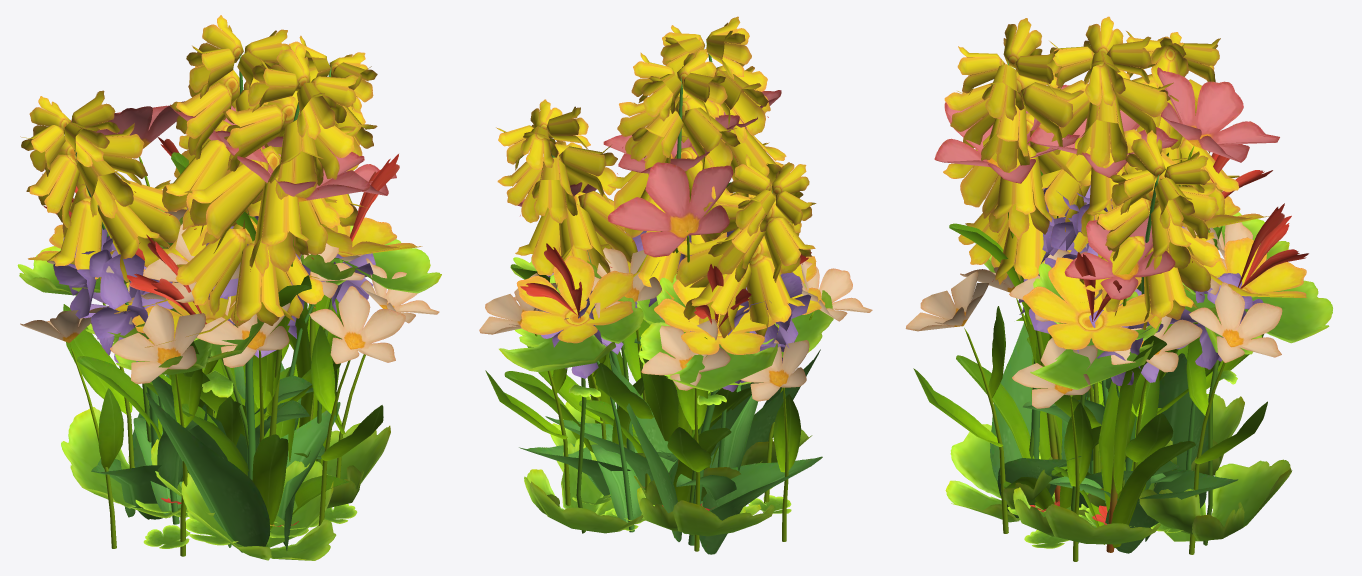
The model's file is flower.glb.
The picture shows the model from 3 angles, left to right: view 1: azimuth 30°, elevation 25°; view 2: azimuth 150°, elevation 25°; view 3: azimuth 270°, elevation 25°; orthographic projection. The views are drawn at different scales.
Visible parts, largest first — view 1: Flower_4_Group, Flower_1_Group, Flower_7_Group, Flower_3_Group, Flower_4_Single, Flower_2_Group, Flower_3_Single, Flower_1_Single, Flower_6_2, Flower_6, Flower_7_Single, Flower_2_Single; view 2: Flower_4_Group, Flower_7_Group, Flower_1_Group, Flower_4_Single, Flower_3_Group, Flower_2_Group, Flower_3_Single, Flower_7_Single, Flower_6; view 3: Flower_4_Group, Flower_7_Group, Flower_3_Group, Flower_1_Group, Flower_4_Single, Flower_2_Group, Flower_3_Single, Flower_2_Single, Flower_6_2.
Boxes of the visible parts, x1=… form: Flower_4_Group: x1=20, y1=35, x2=377, y2=552; Flower_1_Group: x1=20, y1=209, x2=439, y2=556; Flower_7_Group: x1=17, y1=137, x2=441, y2=560; Flower_3_Group: x1=71, y1=101, x2=396, y2=528; Flower_4_Single: x1=151, y1=15, x2=301, y2=464; Flower_2_Group: x1=53, y1=228, x2=375, y2=524; Flower_3_Single: x1=143, y1=104, x2=317, y2=457; Flower_1_Single: x1=143, y1=223, x2=240, y2=413; Flower_6_2: x1=135, y1=474, x2=357, y2=545; Flower_6: x1=143, y1=508, x2=319, y2=548; Flower_7_Single: x1=85, y1=248, x2=276, y2=526; Flower_2_Single: x1=157, y1=208, x2=313, y2=414; Flower_4_Group: x1=496, y1=16, x2=822, y2=554; Flower_7_Group: x1=499, y1=230, x2=833, y2=536; Flower_1_Group: x1=479, y1=247, x2=872, y2=551; Flower_4_Single: x1=545, y1=49, x2=758, y2=490; Flower_3_Group: x1=504, y1=90, x2=781, y2=502; Flower_2_Group: x1=541, y1=230, x2=811, y2=532; Flower_3_Single: x1=579, y1=115, x2=751, y2=453; Flower_7_Single: x1=623, y1=291, x2=762, y2=505; Flower_6: x1=600, y1=487, x2=791, y2=530; Flower_4_Group: x1=943, y1=18, x2=1239, y2=553; Flower_7_Group: x1=945, y1=144, x2=1332, y2=545; Flower_3_Group: x1=934, y1=67, x2=1279, y2=552; Flower_1_Group: x1=905, y1=222, x2=1282, y2=561; Flower_4_Single: x1=1039, y1=16, x2=1190, y2=507; Flower_2_Group: x1=1018, y1=200, x2=1263, y2=508; Flower_3_Single: x1=1027, y1=84, x2=1196, y2=476; Flower_2_Single: x1=1042, y1=185, x2=1168, y2=424; Flower_6_2: x1=1007, y1=501, x2=1183, y2=548.
Size of what is drawn, in the model's own units: 1.94 by 2.49 by 1.98.
Materials: 2 (2 with a texture image).
